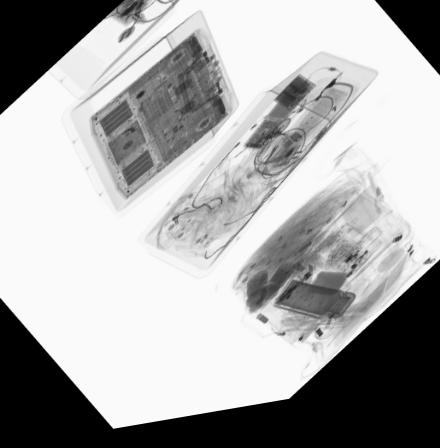Powerbank: (270, 83, 317, 126)
